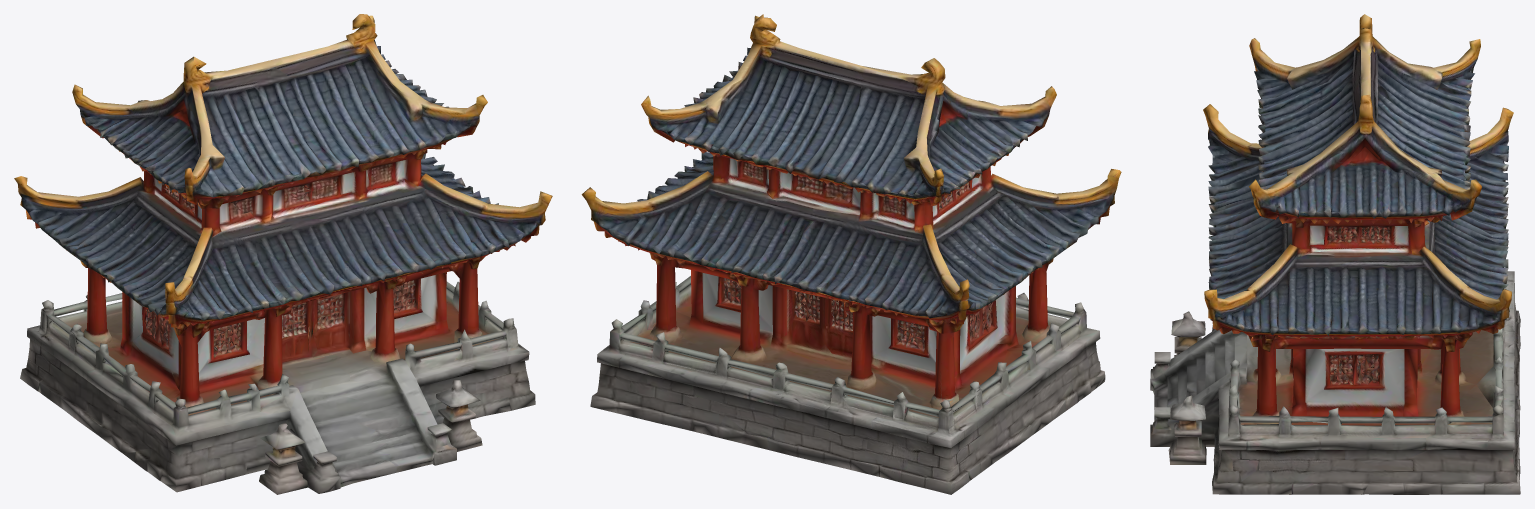
File: temple.glb
3 renders of one model, left to right at view 1: azimuth 30°, elevation 25°; view 2: azimuth 150°, elevation 25°; view 3: azimuth 270°, elevation 25°, orthographic.
Parts seen in each view (by area): view 1: temple; view 2: temple; view 3: temple.
Boxes of the visible parts, x1,y1,x2,y2 form: temple: (14,14,552,494); temple: (581,14,1121,494); temple: (1150,14,1520,494).
Bounding box in the file's own units: 26.7 × 24 × 22.33.
1 material, 1 textured.
